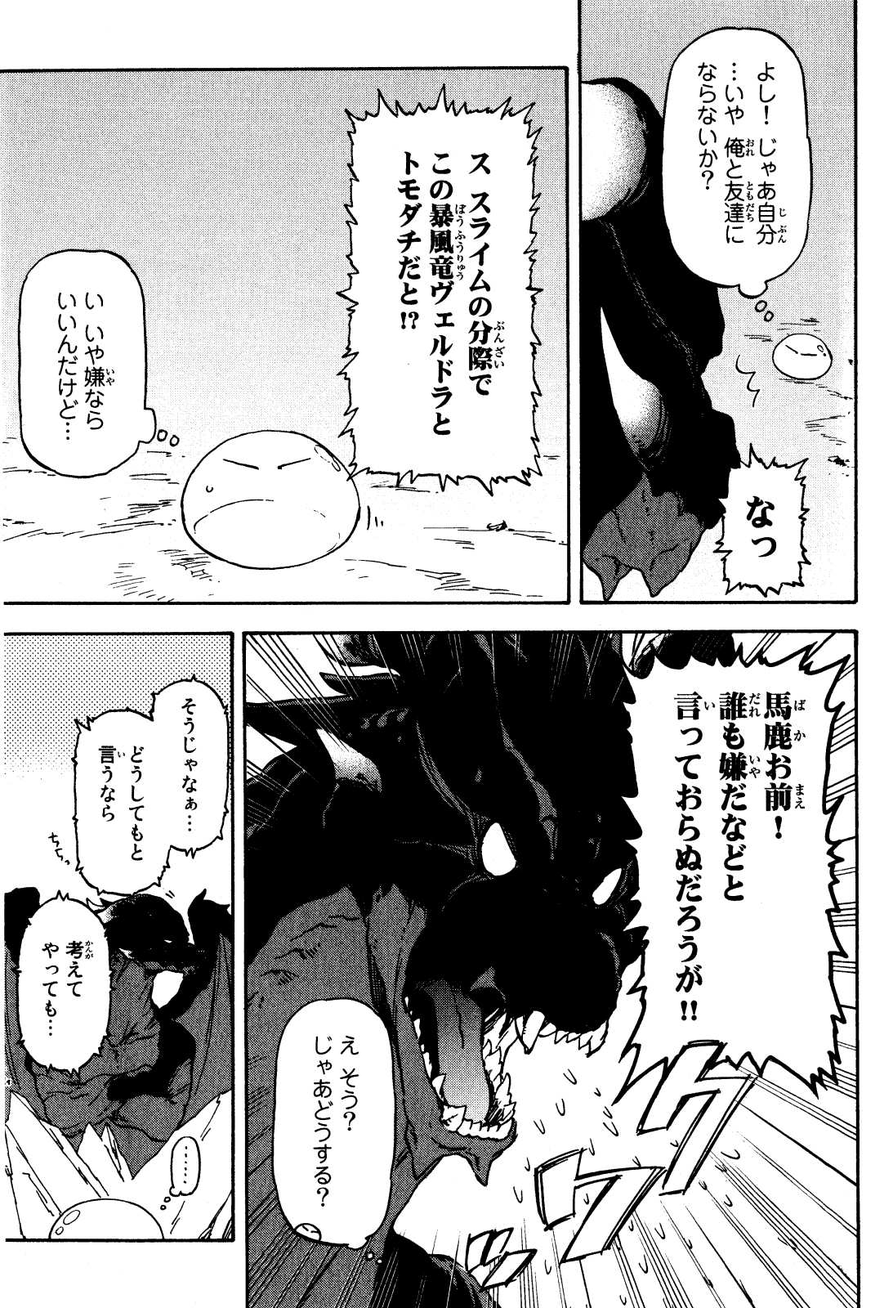bubbles: (613, 643, 855, 1101), (322, 82, 553, 498), (658, 20, 814, 320), (11, 238, 185, 482), (64, 666, 231, 907), (267, 992, 405, 1270), (16, 877, 109, 1082), (704, 446, 825, 601), (154, 1122, 203, 1215)
